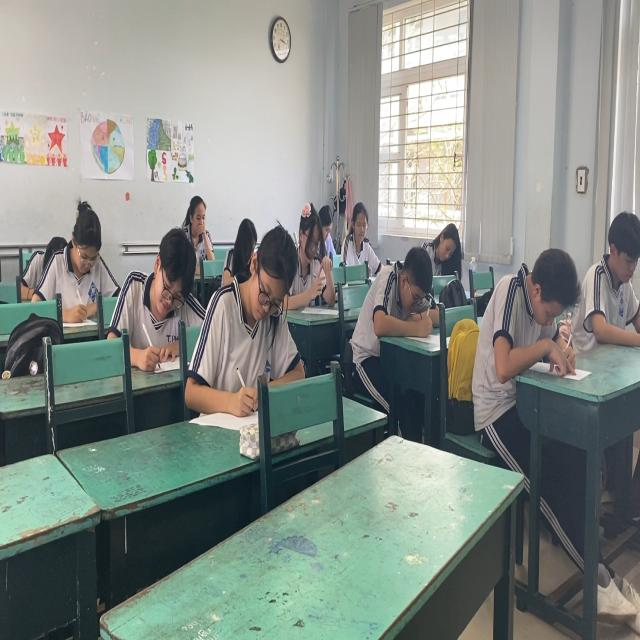not_cheating: (473, 228, 574, 383), (224, 210, 298, 384), (26, 197, 126, 317), (574, 208, 640, 356), (121, 227, 193, 349), (286, 183, 342, 314), (354, 249, 428, 342), (182, 190, 218, 270), (418, 210, 461, 266), (343, 190, 378, 258)
